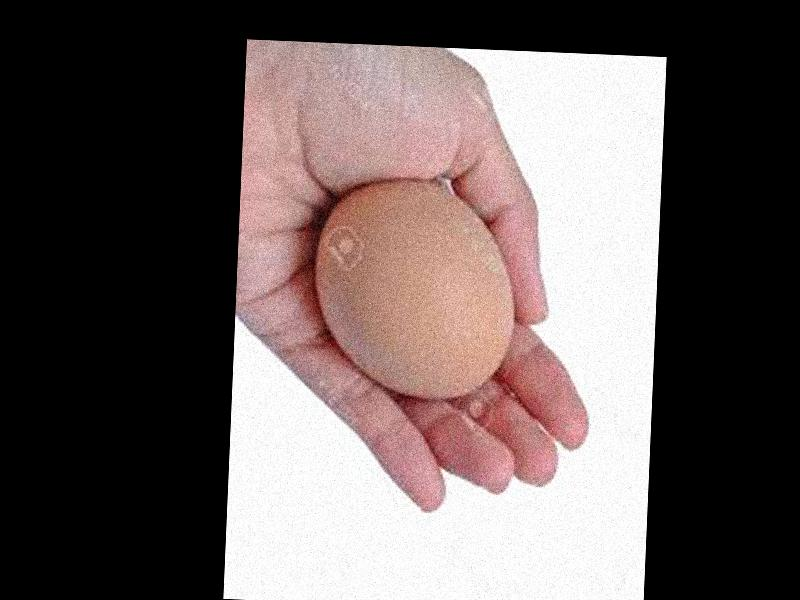Eggs: (312, 174, 519, 402)
